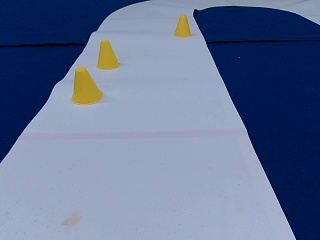cone: (70, 67, 104, 104), (95, 40, 120, 70), (174, 15, 191, 37)
